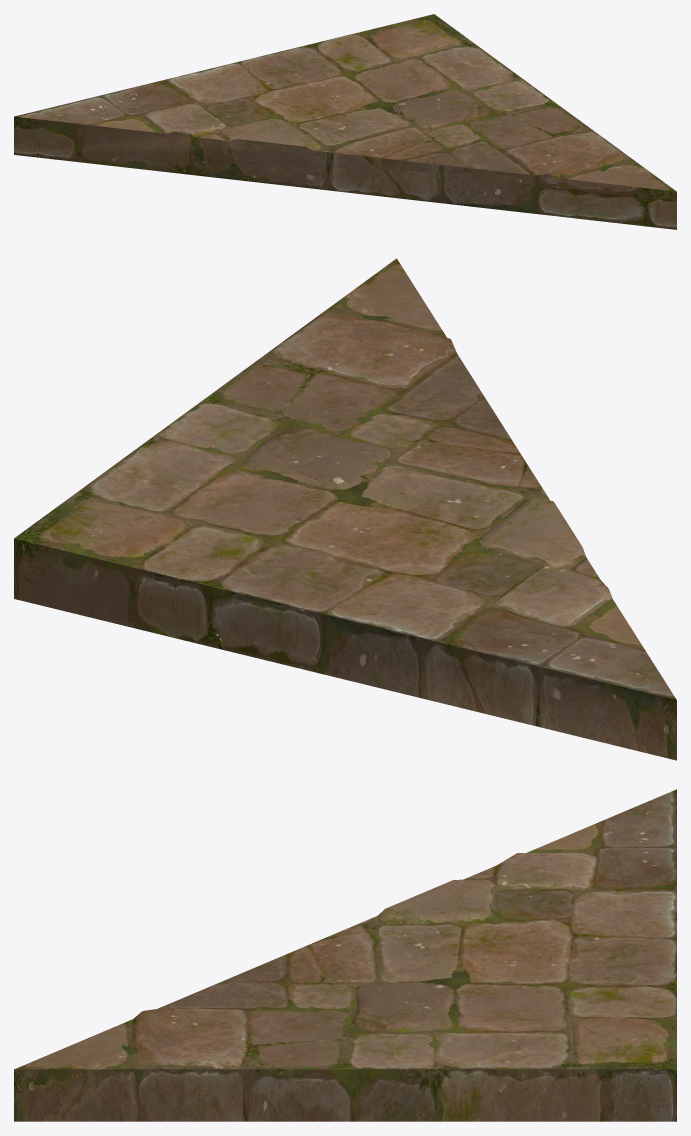
The picture shows the model from 3 angles, top to bottom: view 1: azimuth 30°, elevation 25°; view 2: azimuth 150°, elevation 25°; view 3: azimuth 270°, elevation 25°; orthographic projection. The views are drawn at different scales.
Parts seen in each view (by area): view 1: SM_Human_Ruins_StoneFloor_Triangular_01_LOD0; view 2: SM_Human_Ruins_StoneFloor_Triangular_01_LOD0; view 3: SM_Human_Ruins_StoneFloor_Triangular_01_LOD0.
Part boxes in pixels (x1,y1,x2,y2): SM_Human_Ruins_StoneFloor_Triangular_01_LOD0: (14, 14, 676, 229); SM_Human_Ruins_StoneFloor_Triangular_01_LOD0: (14, 258, 676, 760); SM_Human_Ruins_StoneFloor_Triangular_01_LOD0: (14, 789, 676, 1121).
Size of the model in its own units: 4 by 0.3733 by 4.
Materials: 1 (1 with a texture image).
